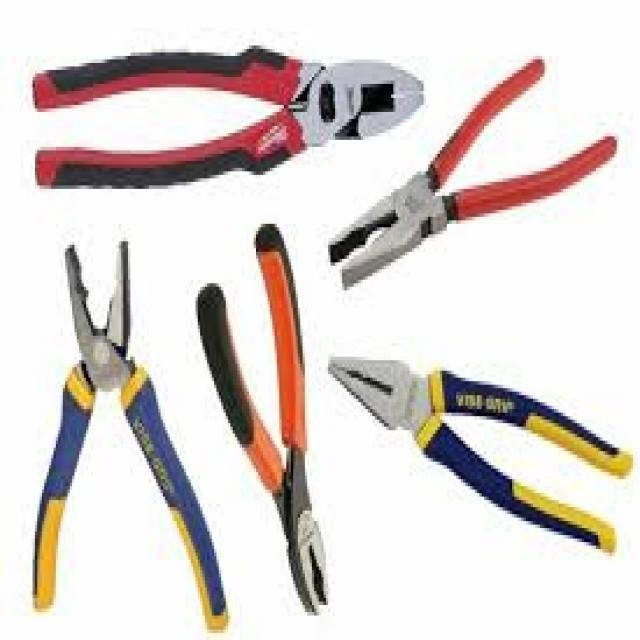pliers: (32, 230, 226, 640), (324, 50, 629, 304), (326, 338, 636, 562), (16, 32, 429, 193), (189, 218, 333, 618)
